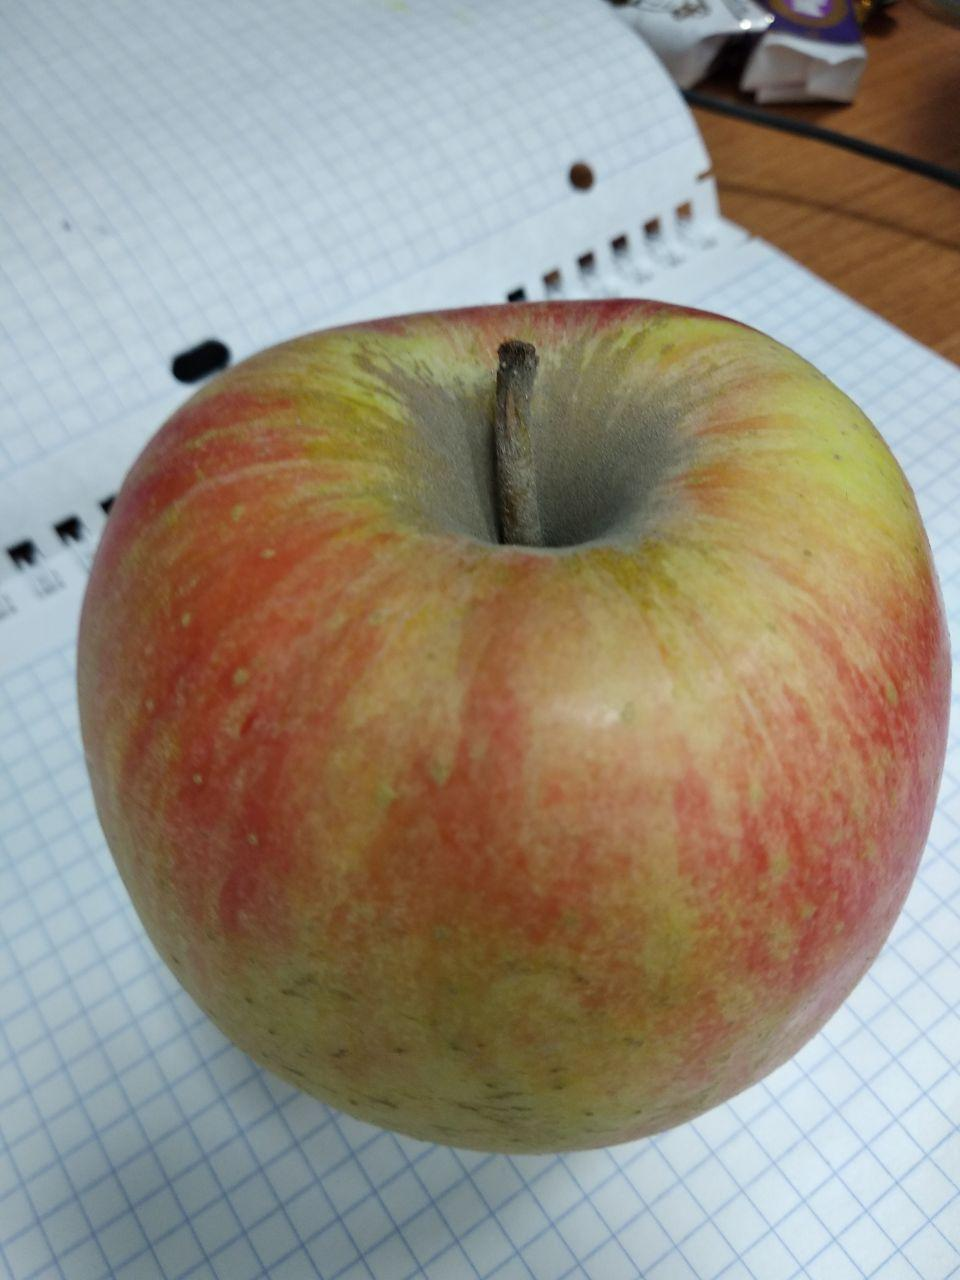Apple: (78, 297, 949, 1150)
